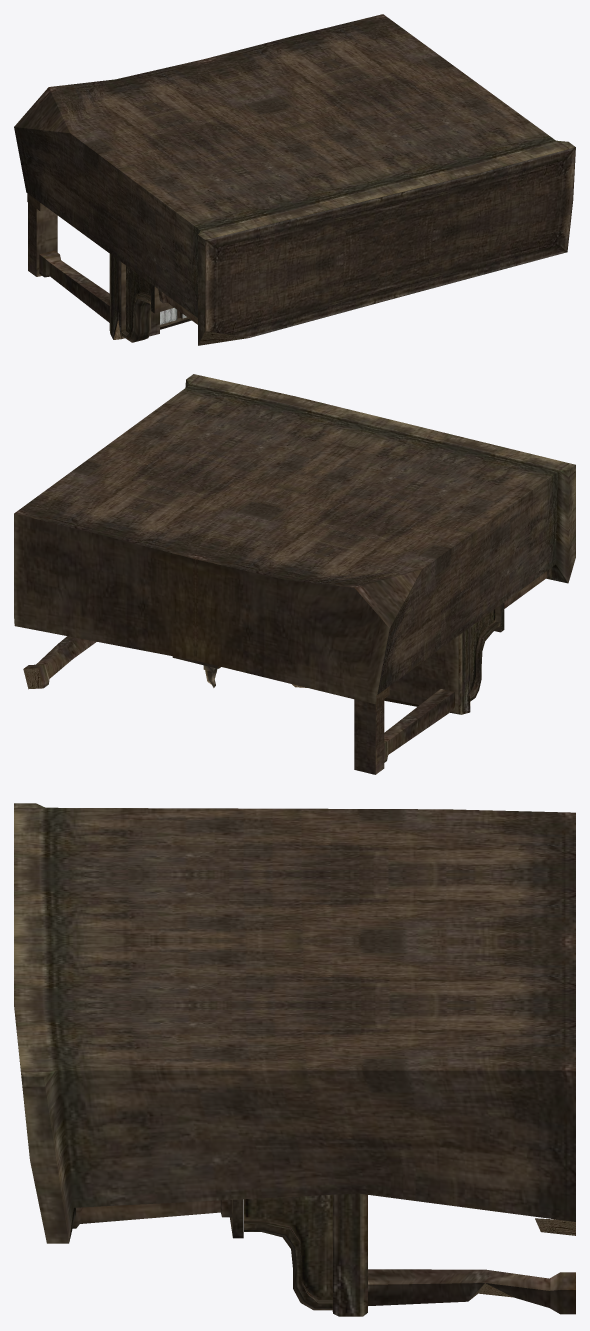
The model's file is furniture_piano_d.glb.
The picture shows the model from 3 angles, top to bottom: view 1: azimuth 30°, elevation 25°; view 2: azimuth 150°, elevation 25°; view 3: azimuth 270°, elevation 25°; orthographic projection. The views are drawn at different scales.
Bounding box in the file's own units: 61.7 × 29.6 × 53.
Materials: 1 (1 with a texture image).
